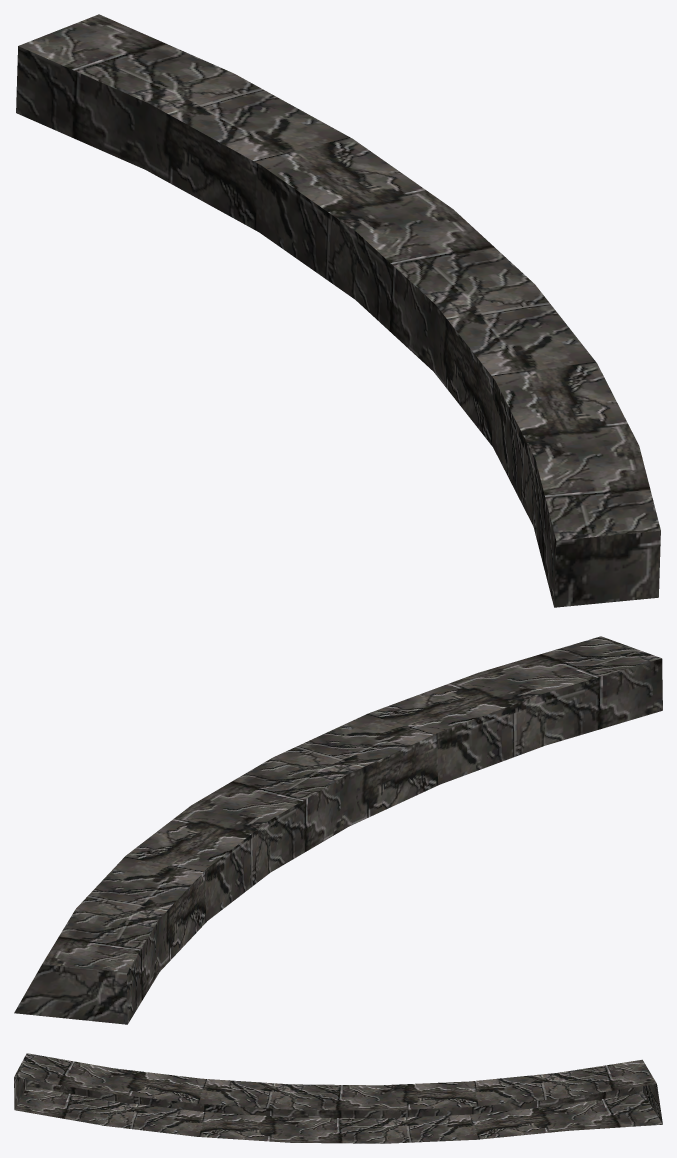
File: CH09_SMAUG_PLAYSURFACE_LAIR73.fbx
The picture shows the model from 3 angles, top to bottom: view 1: azimuth 30°, elevation 25°; view 2: azimuth 150°, elevation 25°; view 3: azimuth 270°, elevation 25°; orthographic projection. The views are drawn at different scales.
Parts seen in each view (by area): view 1: CH09_SMAUG_PLAYSURFACE_LAIR73; view 2: CH09_SMAUG_PLAYSURFACE_LAIR73; view 3: CH09_SMAUG_PLAYSURFACE_LAIR73.
Boxes of the visible parts, x1,y1,x2,y2 form: CH09_SMAUG_PLAYSURFACE_LAIR73: [16, 14, 660, 607]; CH09_SMAUG_PLAYSURFACE_LAIR73: [14, 636, 662, 1024]; CH09_SMAUG_PLAYSURFACE_LAIR73: [14, 1053, 662, 1143].
Bounding box in the file's own units: 30666 × 10909 × 135099.
Materials: 1 (1 with a texture image).
